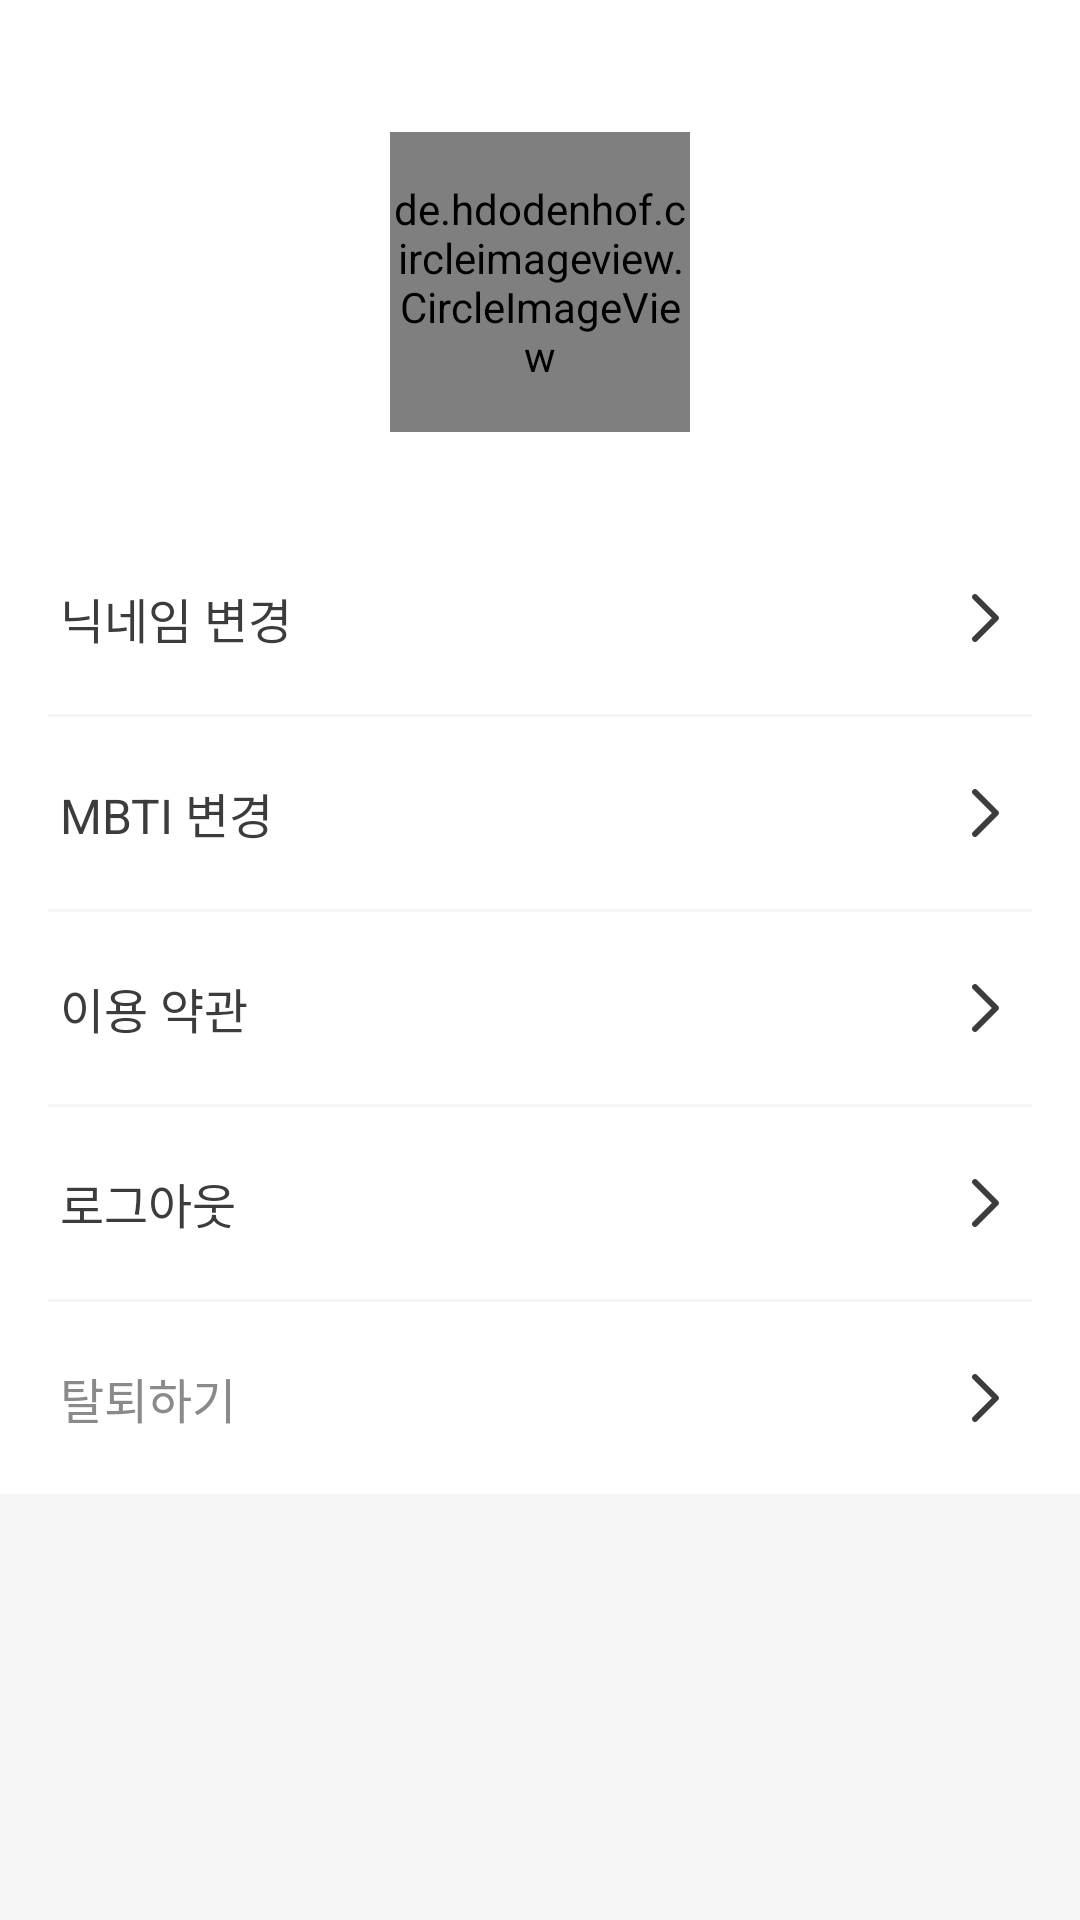

Named icons in this screenshot (1080x1920) and their bounding boxes, (x1, y1, x2, y2):
next scale: (972, 594, 999, 642), (972, 789, 999, 837), (972, 984, 999, 1032), (972, 1179, 999, 1227), (972, 1374, 999, 1422)
